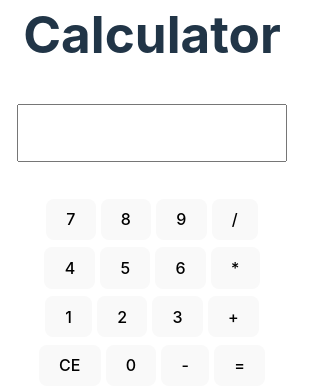
Test case: Calculator › should allow only sequence number, operator
This screenshot has width=320, height=388.
Step 1. Click the button "1" → click(69, 317), box x1=45 y1=296 x2=92 y2=337
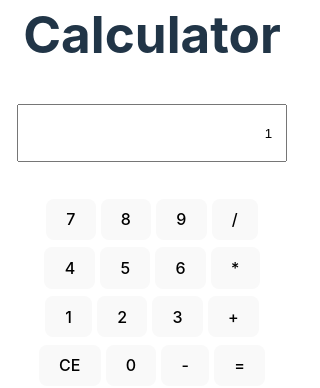
Step 2. Click the button "*" → click(235, 268), box x1=211 y1=247 x2=260 y2=289
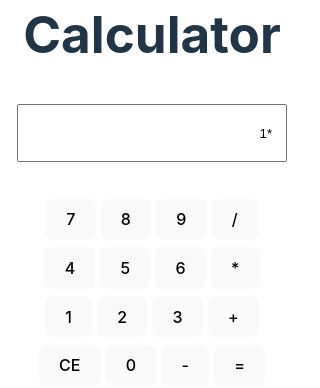
Step 3. Click the button "/" → click(235, 219), box x1=212 y1=199 x2=258 y2=240
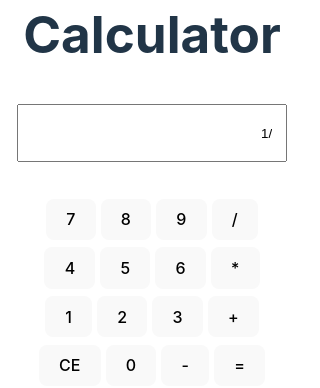
Now the field holds "1/", box x1=16 y1=104 x2=287 y2=162
